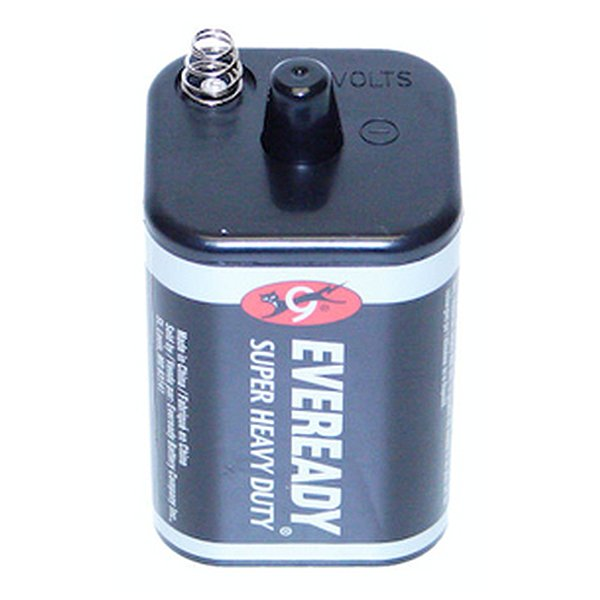6V: (134, 27, 470, 577)
